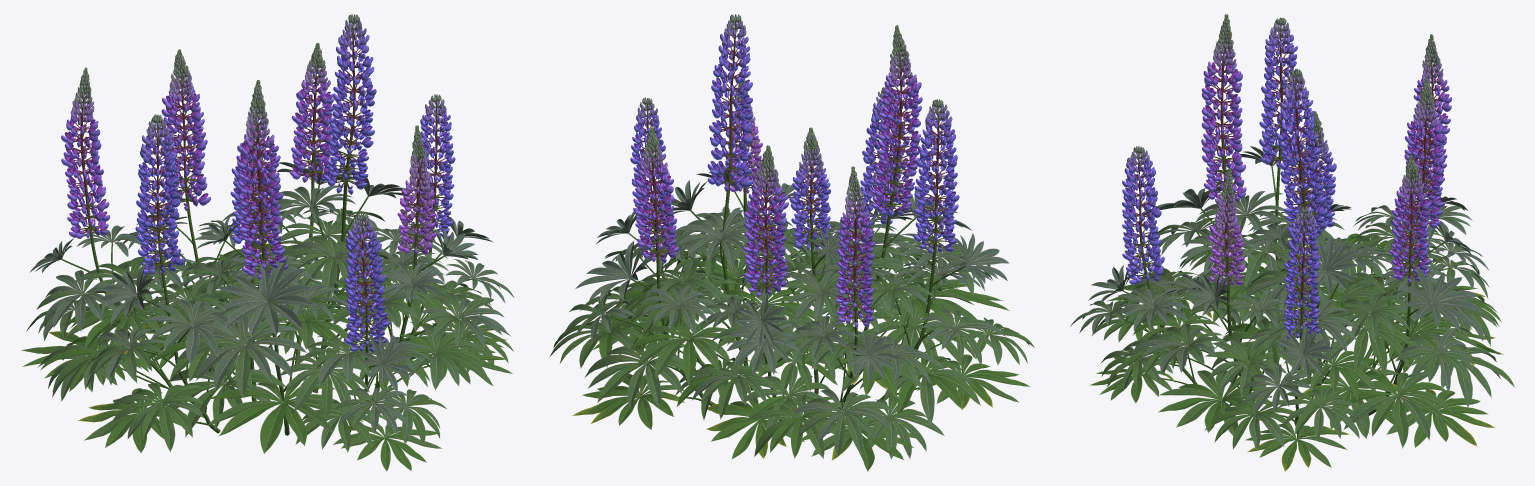
The model's file is realistic_hd_large-leaved_lupine_318.glb.
3 views of the same model, side by side, from view 1: azimuth 30°, elevation 25°; view 2: azimuth 150°, elevation 25°; view 3: azimuth 270°, elevation 25° (orthographic). The views are drawn at different scales.
Parts seen in each view (by area): view 1: Lupinus_polyphyllus_HD; view 2: Lupinus_polyphyllus_HD; view 3: Lupinus_polyphyllus_HD.
Part boxes in pixels (left/top/right/bottom): Lupinus_polyphyllus_HD: left=21, top=14, right=514, bottom=471; Lupinus_polyphyllus_HD: left=549, top=14, right=1034, bottom=471; Lupinus_polyphyllus_HD: left=1070, top=14, right=1515, bottom=471.
Size of the model in its own units: 1.25 by 1.04 by 1.21.
Materials: 35 (35 with a texture image).
